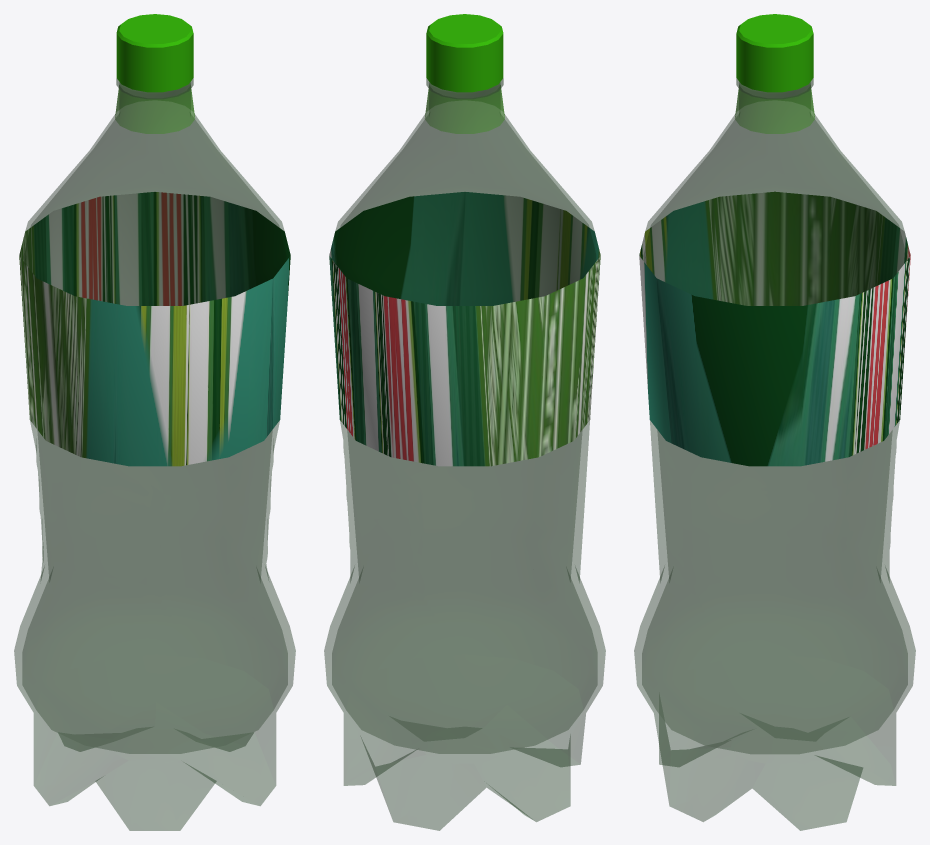
Rendered from SpriteBottle.obj.
3 views of the same model, side by side, from view 1: azimuth 30°, elevation 25°; view 2: azimuth 150°, elevation 25°; view 3: azimuth 270°, elevation 25° (orthographic).
Parts seen in each view (by area): view 1: Mesh; view 2: Mesh; view 3: Mesh.
Boxes of the visible parts, x1=… form: Mesh: x1=14, y1=14, x2=295, y2=830; Mesh: x1=324, y1=14, x2=605, y2=830; Mesh: x1=634, y1=14, x2=915, y2=830.
Size of the model in its own units: 1.08 by 3.2 by 1.09.
